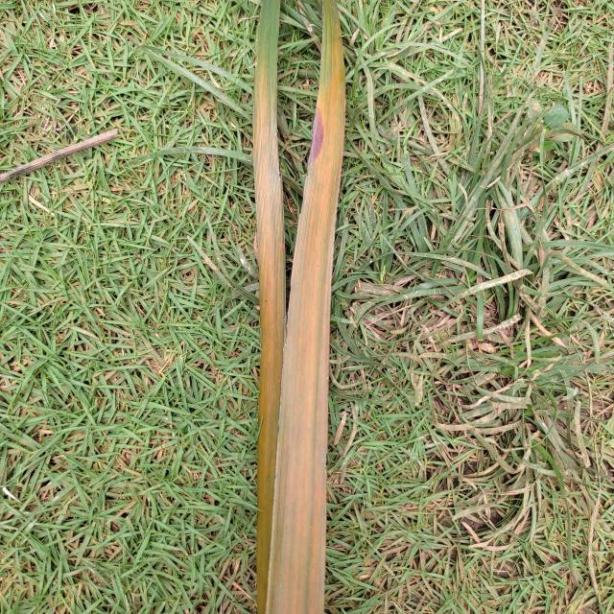Megnesium: (248, 0, 352, 614)
